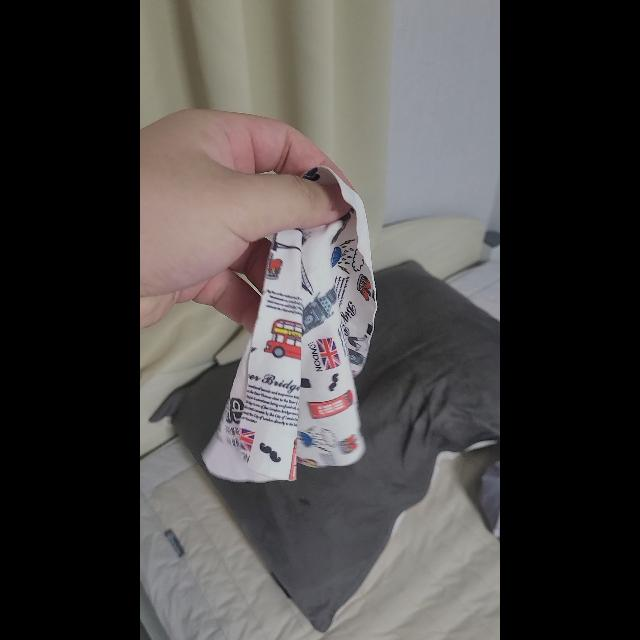Glasses cleaning cloth: (202, 166, 378, 484)
